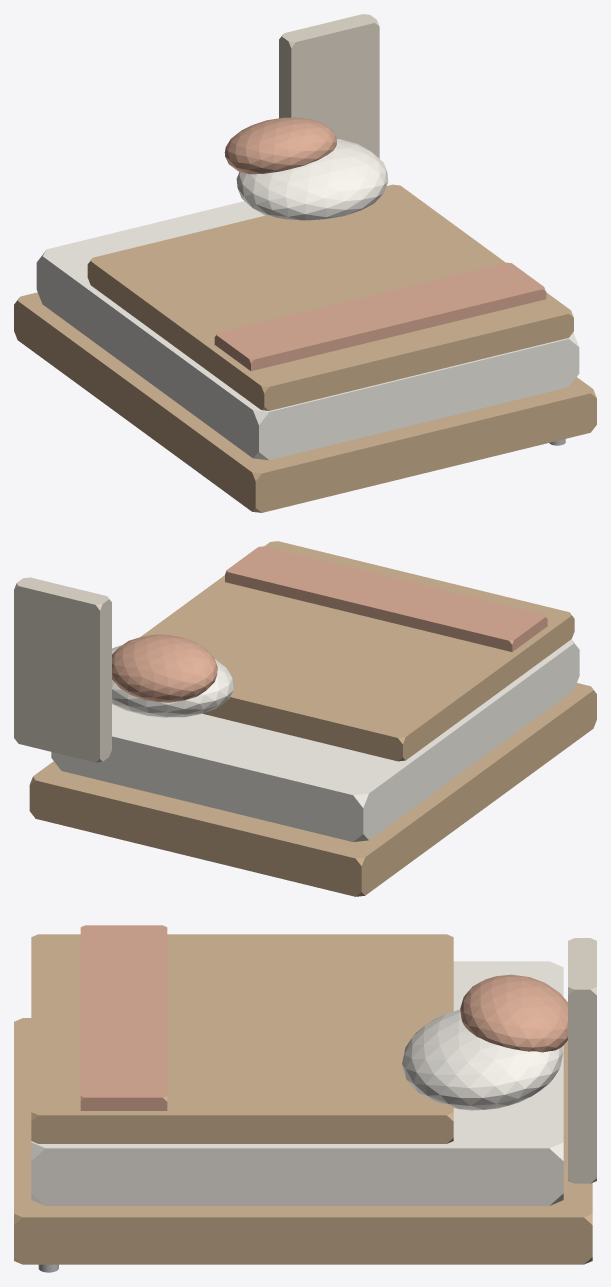
The model's file is bed_queen.glb.
3 views of the same model, one above another, from view 1: azimuth 30°, elevation 25°; view 2: azimuth 150°, elevation 25°; view 3: azimuth 270°, elevation 25° (orthographic). The views are drawn at different scales.
Visible parts, largest first — view 1: FABRIC_SAND_duvet, FABRIC_LIGHT_mattress, WOOD_DARK_frame, FABRIC_ACCENT_throw, FABRIC_MAIN_headboard_panel, FABRIC_LIGHT_pillow, FABRIC_ACCENT2_cushion; view 2: FABRIC_SAND_duvet, FABRIC_LIGHT_mattress, WOOD_DARK_frame, FABRIC_MAIN_headboard_panel, FABRIC_ACCENT_throw, FABRIC_ACCENT2_cushion, FABRIC_LIGHT_pillow; view 3: FABRIC_SAND_duvet, FABRIC_LIGHT_mattress, WOOD_DARK_frame, FABRIC_ACCENT_throw, FABRIC_LIGHT_pillow, FABRIC_MAIN_headboard_panel, FABRIC_ACCENT2_cushion.
Part boxes in pixels (box(x1,y1,x2,y2)): FABRIC_SAND_duvet: box(87, 184, 573, 410); FABRIC_LIGHT_mattress: box(36, 201, 579, 460); WOOD_DARK_frame: box(14, 292, 596, 512); FABRIC_ACCENT_throw: box(214, 262, 546, 371); FABRIC_MAIN_headboard_panel: box(279, 14, 379, 158); FABRIC_LIGHT_pillow: box(236, 138, 388, 220); FABRIC_ACCENT2_cushion: box(224, 117, 336, 174); FABRIC_SAND_duvet: box(141, 541, 574, 761); FABRIC_LIGHT_mattress: box(51, 639, 579, 841); WOOD_DARK_frame: box(29, 683, 596, 896); FABRIC_MAIN_headboard_panel: box(14, 577, 111, 762); FABRIC_ACCENT_throw: box(225, 546, 547, 651); FABRIC_ACCENT2_cushion: box(112, 634, 217, 702); FABRIC_LIGHT_pillow: box(112, 645, 234, 717); FABRIC_SAND_duvet: box(31, 934, 453, 1143); FABRIC_LIGHT_mattress: box(31, 961, 563, 1205); WOOD_DARK_frame: box(14, 1018, 592, 1264); FABRIC_ACCENT_throw: box(80, 925, 167, 1110); FABRIC_LIGHT_pillow: box(402, 1009, 563, 1110); FABRIC_MAIN_headboard_panel: box(568, 938, 596, 1183); FABRIC_ACCENT2_cushion: box(460, 974, 567, 1052).
Size of the model in its own units: 1.7 by 1.15 by 2.01.
